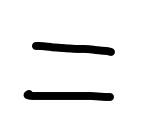eqv: (24, 42, 115, 101)
